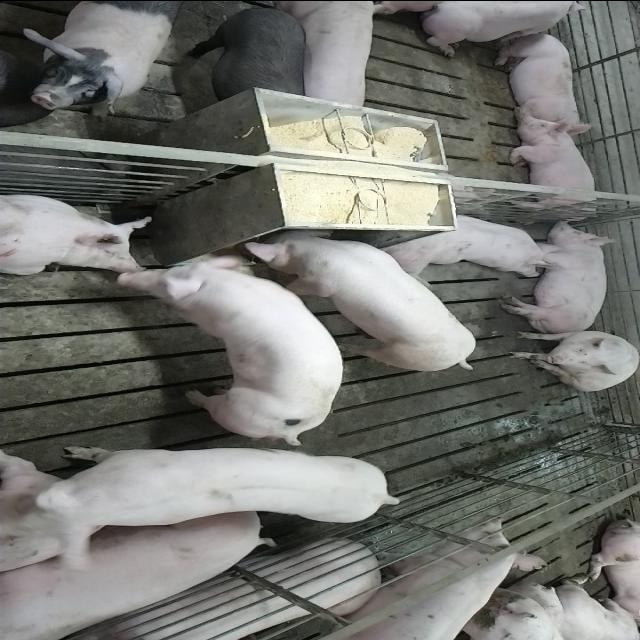Feeding: (112, 254, 344, 443), (239, 229, 478, 376)
Lateral_lying: (0, 516, 273, 640), (498, 218, 620, 333)
Sitting: (506, 328, 638, 390)
Standing: (3, 441, 403, 566), (294, 519, 545, 640), (25, 2, 175, 112), (176, 3, 310, 111), (276, 3, 374, 115)
Sternal_lying: (0, 192, 154, 280), (382, 210, 566, 274), (407, 3, 600, 56), (490, 29, 589, 130), (506, 117, 604, 215)
